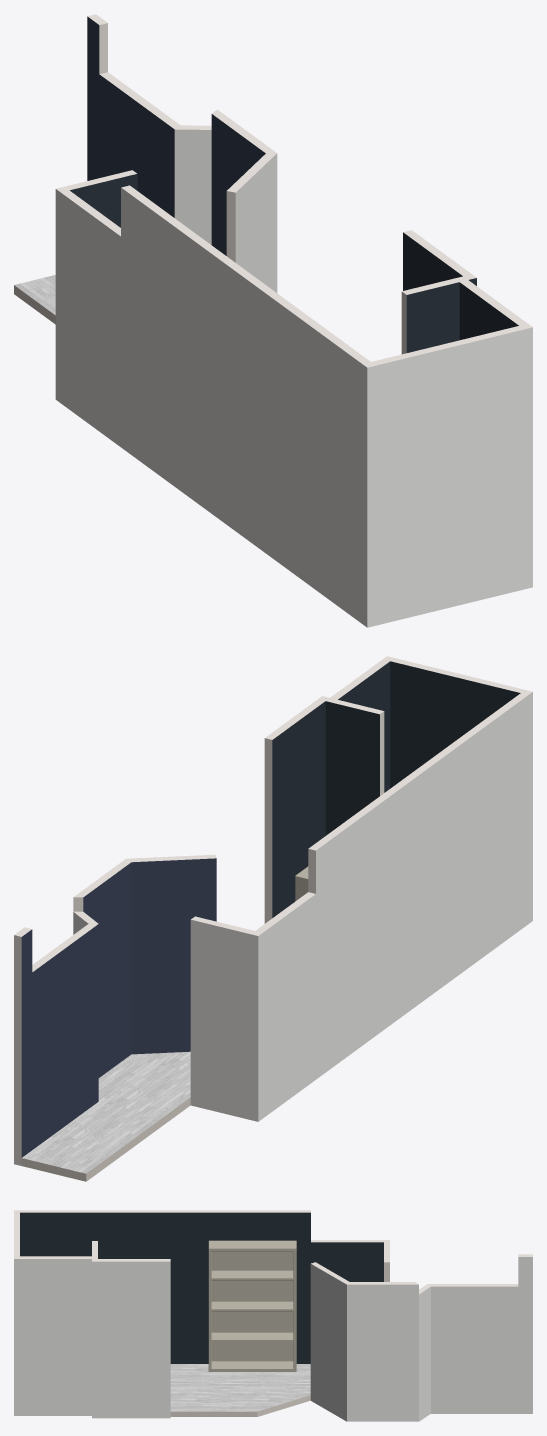
Rendered from TheaterBehindStage.glb.
3 renders of one model, top to bottom at view 1: azimuth 30°, elevation 25°; view 2: azimuth 150°, elevation 25°; view 3: azimuth 270°, elevation 25°, orthographic. The views are drawn at different scales.
Visible parts, largest first — view 1: wall_7, wall_0, wall_17, wall_9, wall_27, wall_19, wall_21, wall_26, wall_31, wall_13, wall_23, wall_18 (+3 smaller); view 2: wall_7, wall_17, wall_29, wall_6, floor_Other, wall_31, wall_11, wall_19, wall_5, wall_26, wall_18, wall_32 (+7 smaller); view 3: wall_25, wall_3, wall_10, wall_1, storage_shelf0, wall_4, floor_Other, wall_9, wall_8, wall_26, floor_Other_2, wall_18 (+1 smaller).
Boxes of the visible parts, box(x1,y1,x2,y2) form: wall_7: box(55, 187, 367, 627); wall_0: box(367, 327, 532, 627); wall_17: box(87, 16, 174, 217); wall_9: box(235, 153, 277, 292); wall_27: box(174, 129, 211, 244); wall_19: box(211, 114, 265, 255); wall_21: box(406, 282, 459, 352); wall_26: box(56, 185, 370, 367); wall_31: box(403, 232, 462, 290); wall_13: box(459, 282, 518, 339); wall_23: box(70, 174, 137, 227); wall_18: box(88, 14, 180, 129); wall_7: box(258, 692, 532, 1121); wall_17: box(21, 924, 98, 1157); wall_29: box(131, 858, 216, 1054); wall_6: box(190, 920, 258, 1121); floor_Other: box(22, 1051, 190, 1173); wall_31: box(272, 701, 325, 917); wall_11: box(390, 661, 520, 788); wall_19: box(83, 862, 131, 1077); wall_5: box(329, 702, 379, 832); wall_26: box(255, 691, 532, 935); wall_18: box(14, 924, 97, 1165); wall_32: box(264, 696, 325, 923); wall_25: box(20, 1212, 383, 1363); wall_3: box(431, 1257, 532, 1413); wall_10: box(92, 1261, 170, 1418); wall_1: box(14, 1259, 91, 1415); storage_shelf0: box(208, 1240, 296, 1371); wall_4: box(347, 1284, 418, 1421); floor_Other: box(170, 1364, 310, 1411); wall_9: box(310, 1264, 346, 1421); wall_8: box(419, 1287, 430, 1421); wall_26: box(15, 1210, 388, 1242); floor_Other_2: box(170, 1395, 310, 1416); wall_18: box(428, 1254, 532, 1286).
Bounding box in the file's own units: 2.14 × 2.86 × 8.56.
Materials: 26 (1 with a texture image).
